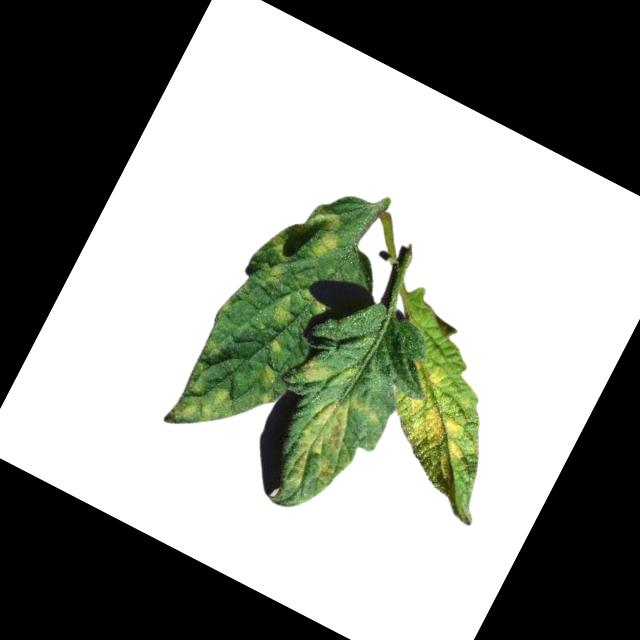Leaf_Mold: (364, 354, 496, 495), (276, 382, 384, 508), (160, 368, 239, 443), (289, 198, 349, 263), (250, 230, 298, 286), (293, 349, 336, 392), (247, 361, 286, 407), (263, 292, 300, 331)
